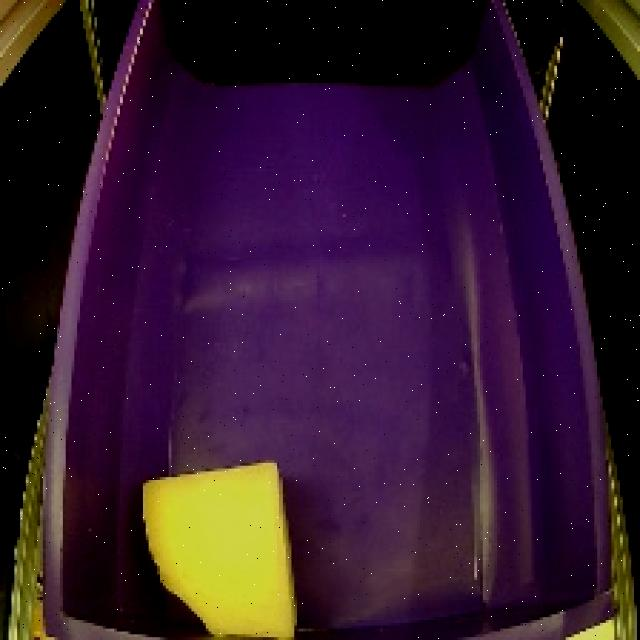potato: (127, 449, 313, 640)
